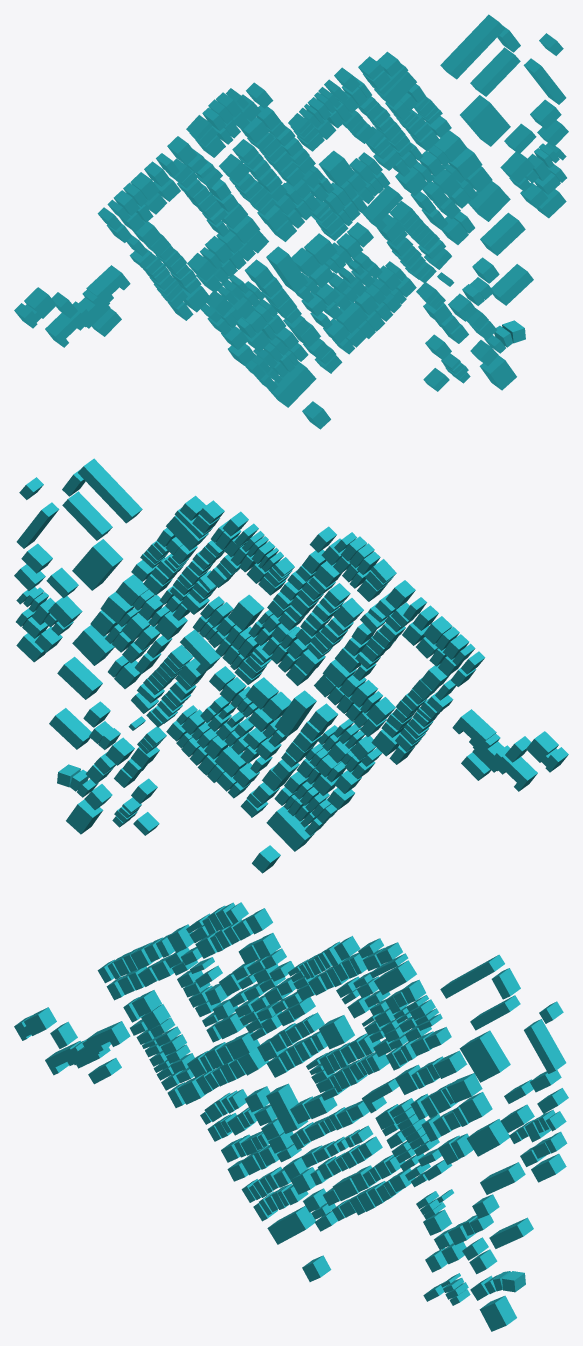
Rendered from ds_map_(1)_9001e2c7.glb.
3 views of the same model, one above another, from view 1: azimuth 30°, elevation 25°; view 2: azimuth 150°, elevation 25°; view 3: azimuth 330°, elevation 25° (orthographic).
Parts seen in each view (by area): view 1: OSM-BUILDING-WAY-351427562, OSM-BUILDING-WAY-349830385, OSM-BUILDING-WAY-349830413, OSM-BUILDING-WAY-349830501, OSM-BUILDING-WAY-349985131, OSM-BUILDING-WAY-349985467, OSM-BUILDING-WAY-349985049, OSM-BUILDING-WAY-349985186, OSM-BUILDING-WAY-351427540, OSM-BUILDING-WAY-349830606, OSM-BUILDING-WAY-349985487, OSM-BUILDING-WAY-349985327 (+10 smaller); view 2: OSM-BUILDING-WAY-351427562, OSM-BUILDING-WAY-349830385, OSM-BUILDING-WAY-349830413, OSM-BUILDING-WAY-349830501, OSM-BUILDING-WAY-349985131, OSM-BUILDING-WAY-349985467, OSM-BUILDING-WAY-349985049, OSM-BUILDING-WAY-349985186, OSM-BUILDING-WAY-351427540, OSM-BUILDING-WAY-349830606, OSM-BUILDING-WAY-349985487, OSM-BUILDING-WAY-349985327 (+10 smaller); view 3: OSM-BUILDING-WAY-351427562, OSM-BUILDING-WAY-349830413, OSM-BUILDING-WAY-349830397, OSM-BUILDING-WAY-349985049, OSM-BUILDING-WAY-349985131, OSM-BUILDING-WAY-349830385, OSM-BUILDING-WAY-349830606, OSM-BUILDING-WAY-349984936, OSM-BUILDING-WAY-351427540, OSM-BUILDING-WAY-349985327, OSM-BUILDING-WAY-349985467, OSM-BUILDING-WAY-349985124 (+9 smaller).
Boxes of the visible parts, left/top/right/bottom form: OSM-BUILDING-WAY-351427562: left=45, top=265, right=130, bottom=347; OSM-BUILDING-WAY-349830385: left=440, top=14, right=504, bottom=79; OSM-BUILDING-WAY-349830413: left=460, top=95, right=510, bottom=146; OSM-BUILDING-WAY-349830501: left=470, top=47, right=520, bottom=96; OSM-BUILDING-WAY-349985131: left=267, top=362, right=316, bottom=407; OSM-BUILDING-WAY-349985467: left=480, top=212, right=525, bottom=255; OSM-BUILDING-WAY-349985049: left=266, top=246, right=307, bottom=292; OSM-BUILDING-WAY-349985186: left=491, top=264, right=533, bottom=305; OSM-BUILDING-WAY-351427540: left=14, top=287, right=56, bottom=328; OSM-BUILDING-WAY-349830606: left=468, top=181, right=510, bottom=221; OSM-BUILDING-WAY-349985487: left=362, top=185, right=402, bottom=230; OSM-BUILDING-WAY-349985327: left=318, top=150, right=354, bottom=186; OSM-BUILDING-WAY-351427562: left=452, top=709, right=537, bottom=791; OSM-BUILDING-WAY-349830385: left=78, top=458, right=142, bottom=523; OSM-BUILDING-WAY-349830413: left=72, top=539, right=122, bottom=590; OSM-BUILDING-WAY-349830501: left=62, top=491, right=112, bottom=540; OSM-BUILDING-WAY-349985131: left=266, top=806, right=315, bottom=851; OSM-BUILDING-WAY-349985467: left=57, top=656, right=102, bottom=699; OSM-BUILDING-WAY-349985049: left=275, top=690, right=316, bottom=736; OSM-BUILDING-WAY-349985186: left=49, top=708, right=91, bottom=749; OSM-BUILDING-WAY-351427540: left=526, top=731, right=568, bottom=772; OSM-BUILDING-WAY-349830606: left=72, top=625, right=114, bottom=665; OSM-BUILDING-WAY-349985487: left=180, top=629, right=220, bottom=674; OSM-BUILDING-WAY-349985327: left=228, top=594, right=264, bottom=630; OSM-BUILDING-WAY-351427562: left=45, top=1021, right=130, bottom=1075; OSM-BUILDING-WAY-349830413: left=459, top=1030, right=510, bottom=1082; OSM-BUILDING-WAY-349830397: left=524, top=1019, right=566, bottom=1073; OSM-BUILDING-WAY-349985049: left=266, top=1083, right=308, bottom=1133; OSM-BUILDING-WAY-349985131: left=267, top=1205, right=315, bottom=1244; OSM-BUILDING-WAY-349830385: left=440, top=954, right=504, bottom=998; OSM-BUILDING-WAY-349830606: left=467, top=1119, right=509, bottom=1156; OSM-BUILDING-WAY-349984936: left=479, top=1295, right=516, bottom=1331; OSM-BUILDING-WAY-351427540: left=14, top=1007, right=56, bottom=1040; OSM-BUILDING-WAY-349985327: left=319, top=1015, right=354, bottom=1049; OSM-BUILDING-WAY-349985467: left=480, top=1162, right=525, bottom=1194; OSM-BUILDING-WAY-349985124: left=374, top=960, right=416, bottom=994.
Bounding box in the file's own units: 594 × 385 × 20.
